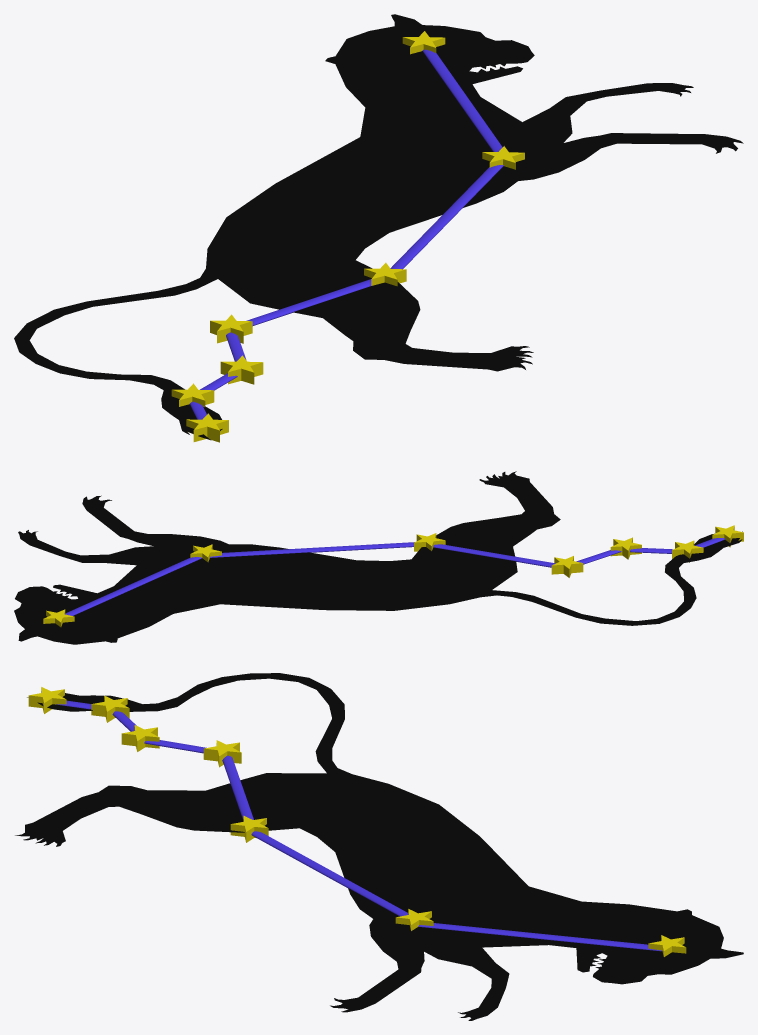
The model's file is Yamaneko-za.glb.
3 views of the same model, one above another, from view 1: azimuth 30°, elevation 25°; view 2: azimuth 150°, elevation 25°; view 3: azimuth 270°, elevation 25° (orthographic). The views are drawn at different scales.
Visible parts, largest first — view 1: 円, 円柱.005, 円柱.006, 円柱.004, 円.002, 円.010, 円.003; view 2: 円, 円柱.005, 円柱.006, 円柱.004, 円.003, 円.002, 円.001, 円.004, 円.010, 円.006, 円.005; view 3: 円, 円柱.006, 円柱.005, 円柱.004, 円.002, 円.003, 円.001, 円.010, 円.004.
Boxes of the visible parts, x1,y1,x2,y2 form: 円: (14, 14, 743, 440); 円柱.005: (390, 165, 503, 269); 円柱.006: (422, 49, 502, 151); 円柱.004: (246, 279, 371, 325); 円.002: (220, 355, 263, 384); 円.010: (186, 413, 228, 442); 円.003: (210, 314, 252, 343); 円: (14, 471, 742, 644); 円柱.005: (210, 542, 414, 557); 円柱.006: (65, 557, 201, 615); 円柱.004: (433, 544, 555, 567); 円.003: (551, 556, 583, 577); 円.002: (610, 537, 641, 559); 円.001: (672, 540, 703, 562); 円.004: (414, 533, 445, 551); 円.010: (712, 525, 743, 547); 円.006: (43, 609, 74, 627); 円.005: (190, 544, 221, 562); 円: (15, 673, 743, 1020); 円柱.006: (418, 923, 662, 951); 円柱.005: (251, 831, 408, 916); 円柱.004: (222, 755, 253, 819); 円.002: (121, 725, 159, 751); 円.003: (203, 740, 241, 767); 円.001: (91, 695, 129, 722); 円.010: (28, 687, 66, 713); 円.004: (230, 815, 268, 842).
Bounding box in the file's own units: 59.95 × 0.8959 × 53.17.
